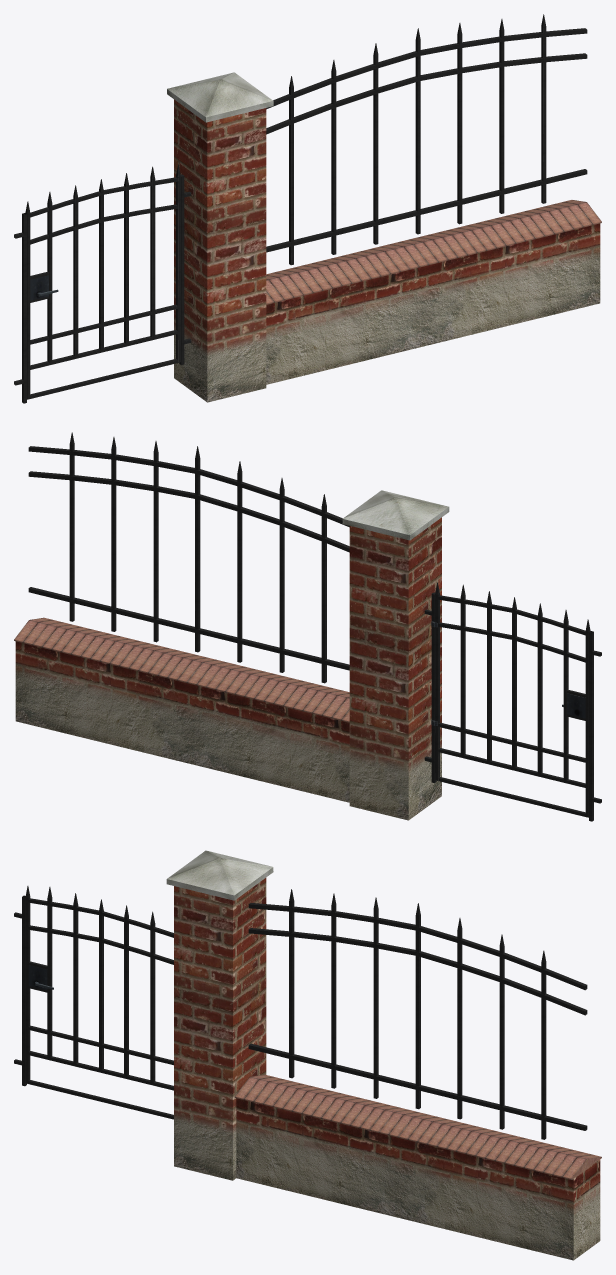
File: Metallic and brick fence.FBX
3 renders of one model, top to bottom at view 1: azimuth 30°, elevation 25°; view 2: azimuth 150°, elevation 25°; view 3: azimuth 330°, elevation 25°, orthographic.
Visible parts, largest first — view 1: brick_fence---wall, brick_fence---colones, Metal---wall, brick_metallic_fence---gate, brick_metallic_fence---gate_b; view 2: brick_fence---wall, brick_fence---colones, Metal---wall, brick_metallic_fence---gate, brick_metallic_fence---gate_b; view 3: brick_fence---wall, brick_fence---colones, Metal---wall, brick_metallic_fence---gate, brick_metallic_fence---gate_b.
Part boxes in pixels (<box>): brick_fence---wall: <box>266,200,601,384</box>; brick_fence---colones: <box>167,72,273,402</box>; Metal---wall: <box>266,14,587,265</box>; brick_metallic_fence---gate: <box>25,164,180,399</box>; brick_metallic_fence---gate_b: <box>14,174,191,403</box>; brick_fence---wall: <box>14,617,349,802</box>; brick_fence---colones: <box>342,490,449,820</box>; Metal---wall: <box>28,432,349,683</box>; brick_metallic_fence---gate: <box>435,582,590,817</box>; brick_metallic_fence---gate_b: <box>424,592,601,821</box>; brick_fence---wall: <box>234,1074,601,1260</box>; brick_fence---colones: <box>166,850,273,1180</box>; Metal---wall: <box>248,889,587,1139</box>; brick_metallic_fence---gate: <box>25,886,173,1119</box>; brick_metallic_fence---gate_b: <box>14,895,26,1086</box>.
Bounding box in the file's own units: 440 × 51.96 × 225.
